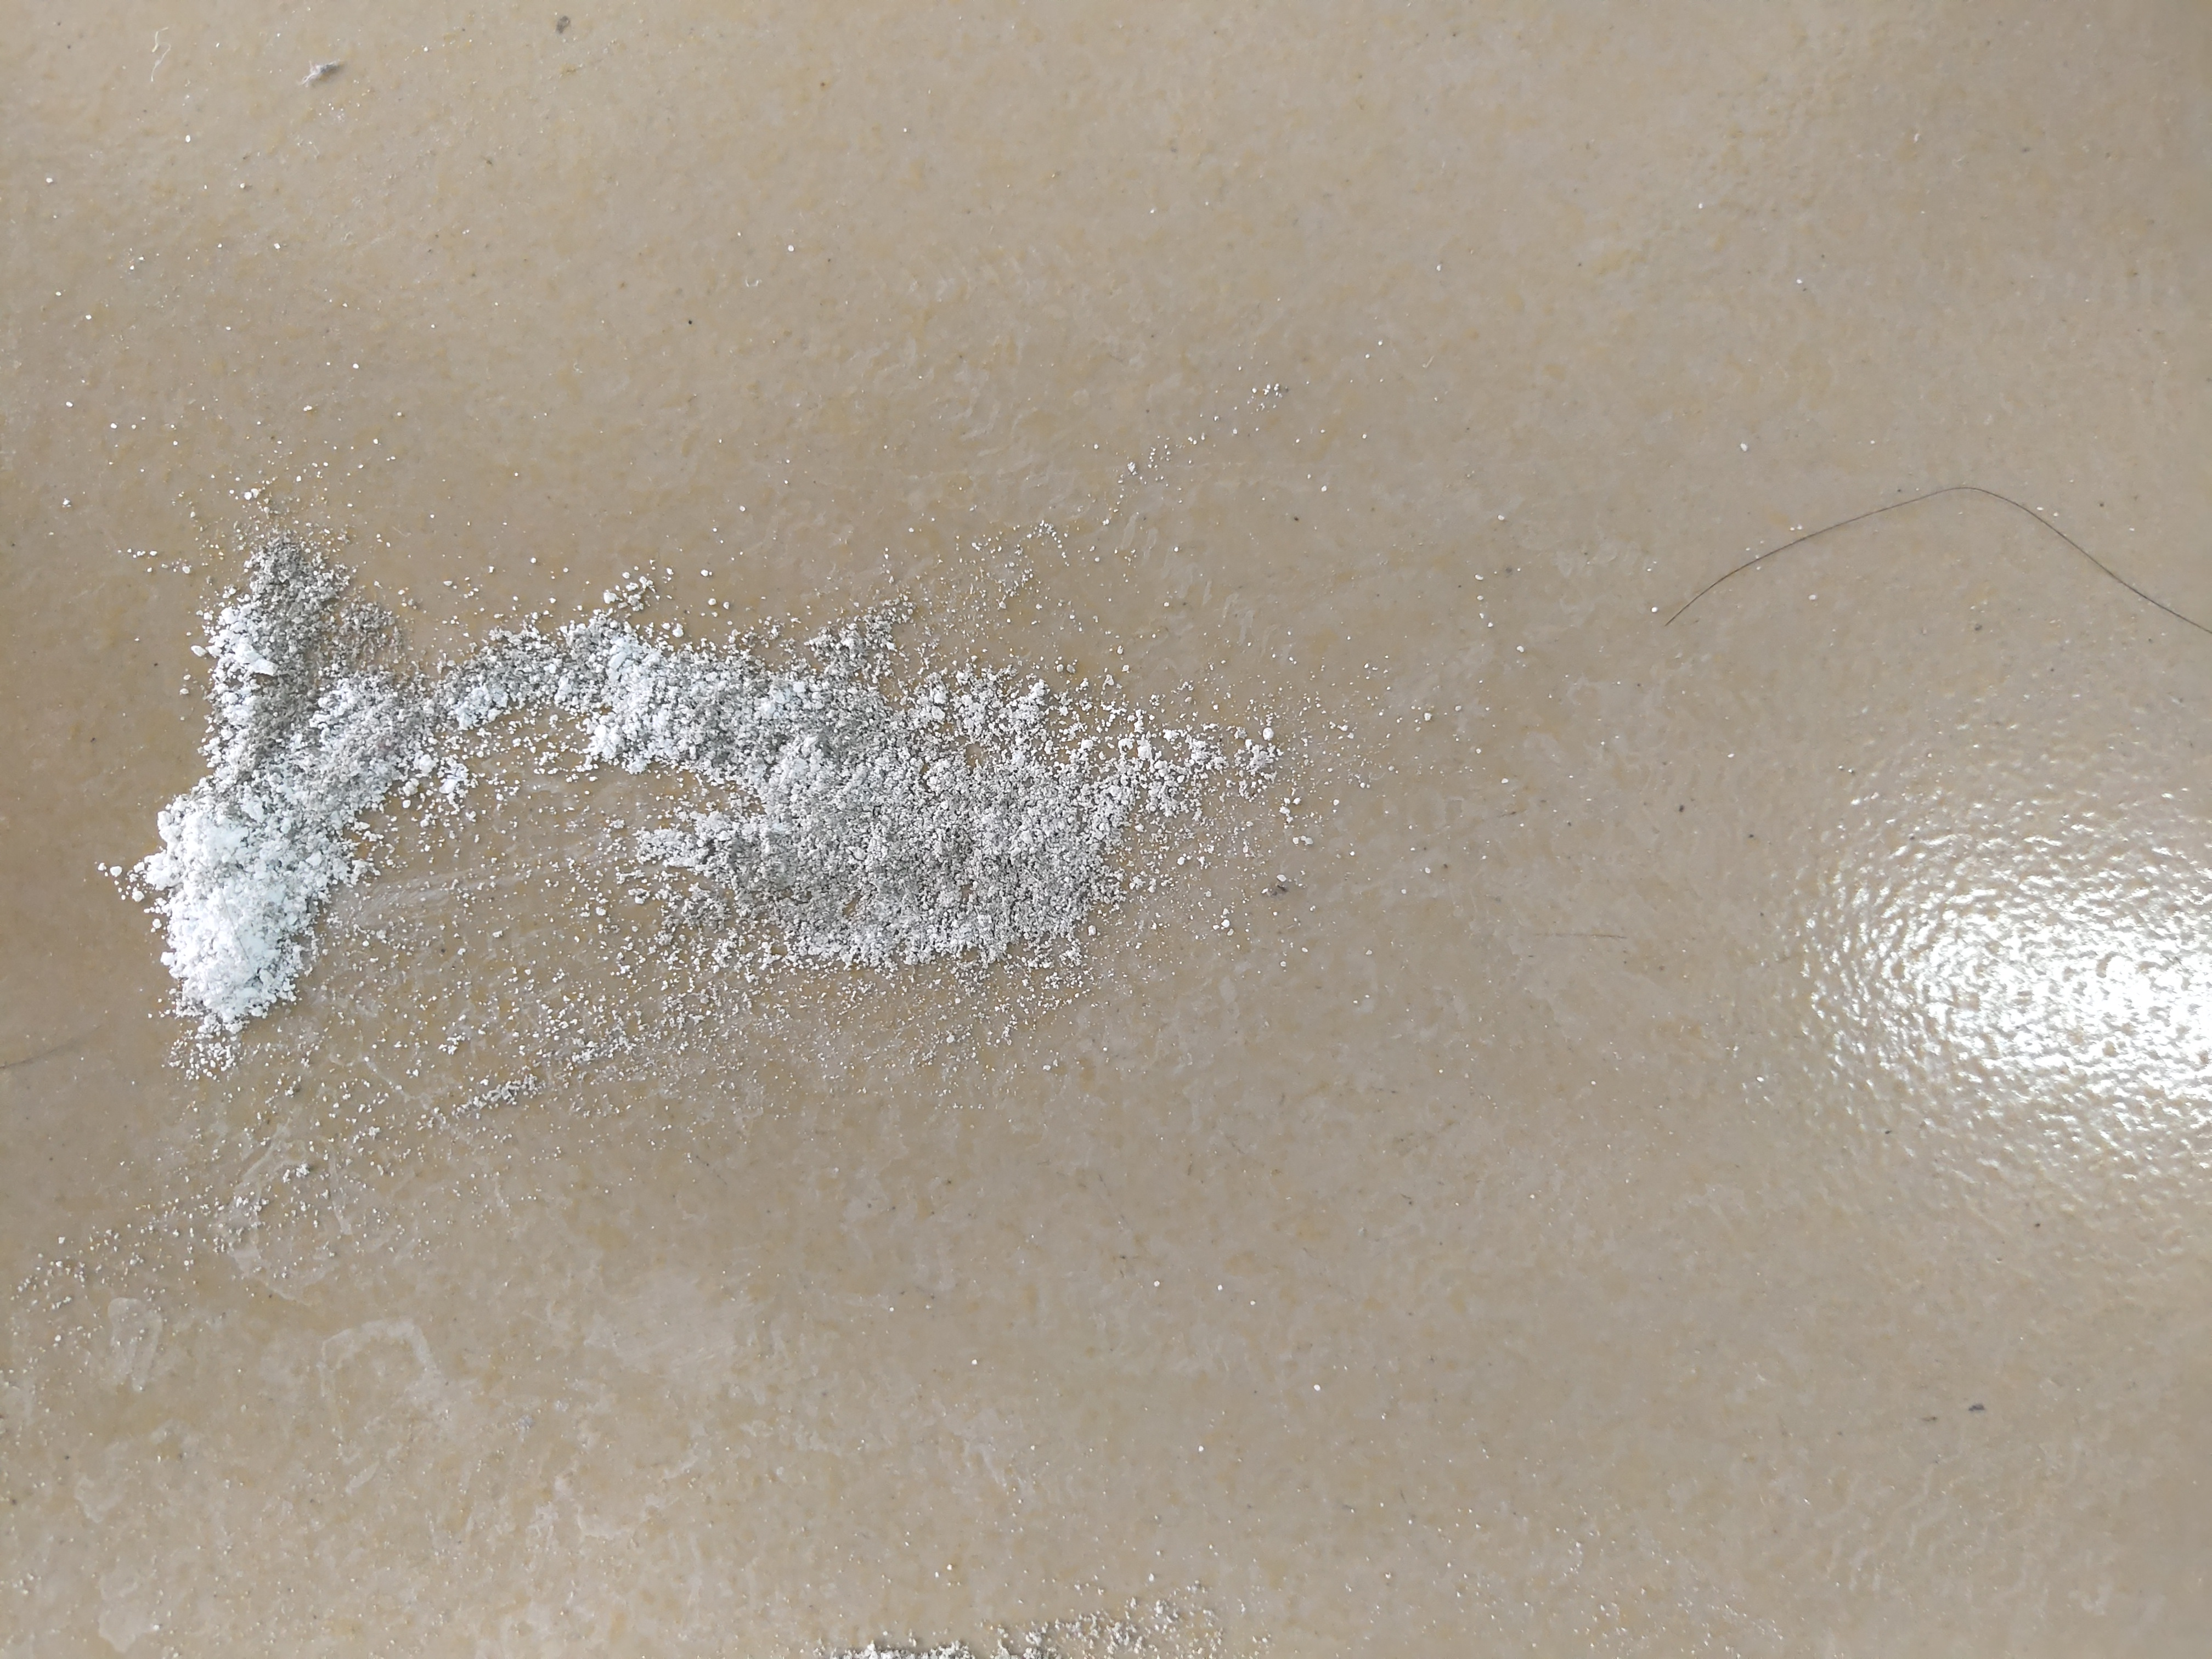ash pile: (91, 526, 1327, 1075)
reflection: (1808, 836, 2210, 1134)
